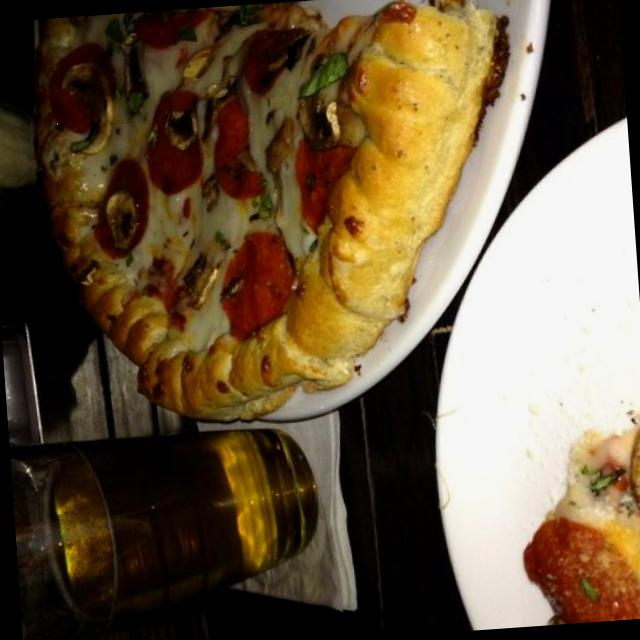basil: (285, 42, 363, 124), (101, 80, 156, 125), (206, 3, 266, 42)
mushrooms: (53, 54, 121, 160), (174, 248, 234, 314), (252, 110, 304, 175), (297, 93, 349, 156), (94, 189, 144, 250), (157, 96, 206, 156), (173, 52, 227, 80)
pepperoni: (527, 509, 640, 625), (212, 225, 306, 348), (130, 86, 210, 204), (72, 156, 164, 254), (204, 84, 265, 215), (281, 132, 361, 228), (46, 47, 120, 147), (228, 19, 314, 100), (126, 6, 218, 54)
pizza: (35, 0, 507, 420), (517, 412, 640, 619)
